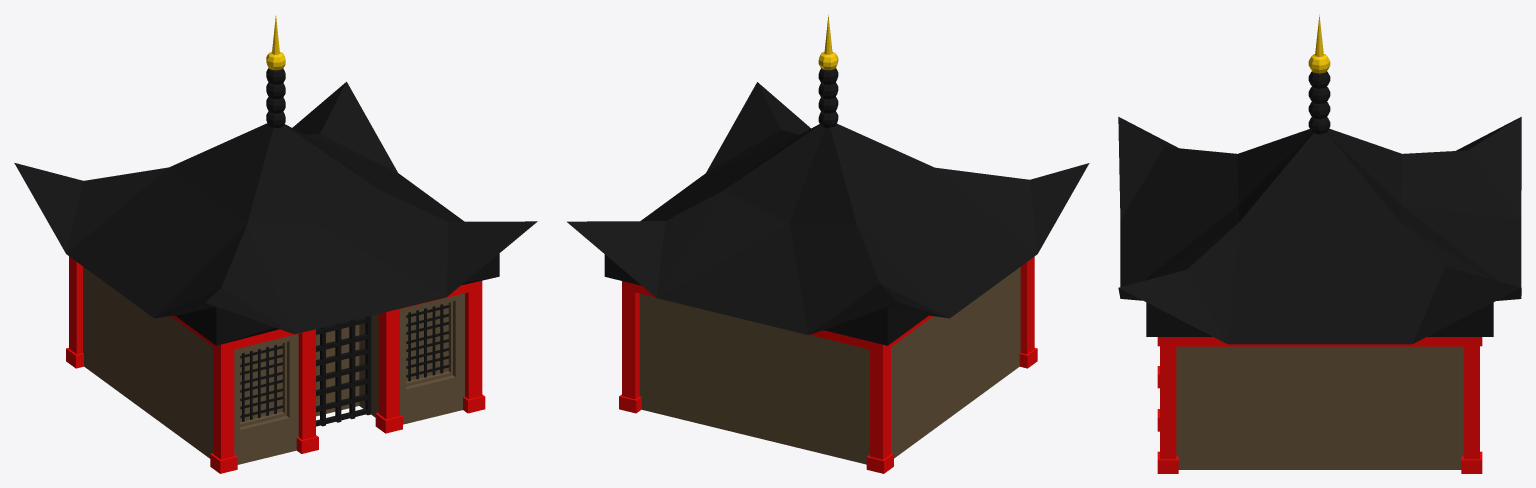
Rendered from HOuse.FBX.
3 renders of one model, left to right at view 1: azimuth 30°, elevation 25°; view 2: azimuth 150°, elevation 25°; view 3: azimuth 270°, elevation 25°, orthographic. The views are drawn at different scales.
Parts seen in each view (by area): view 1: Box001; view 2: Box001; view 3: Box001.
Boxes of the visible parts, bbox=[...] form: Box001: bbox=[14, 16, 537, 473]; Box001: bbox=[567, 14, 1089, 473]; Box001: bbox=[1118, 14, 1521, 473].
Size of the model in its own units: 7.77 by 8.3 by 7.74.
